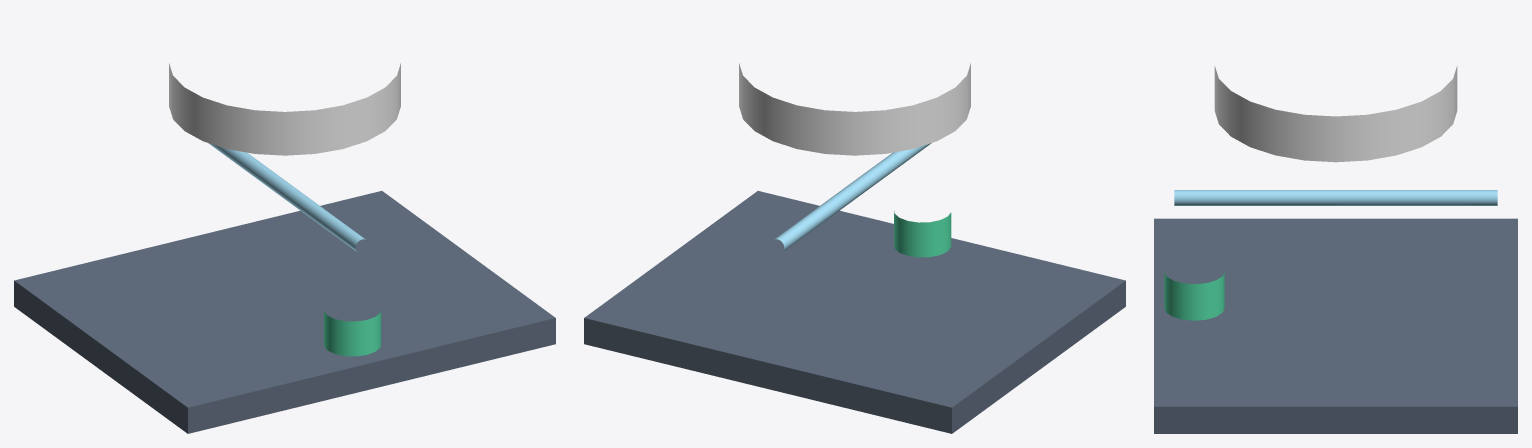
Rendered from illumination_engineering.glb.
3 views of the same model, side by side, from view 1: azimuth 30°, elevation 25°; view 2: azimuth 150°, elevation 25°; view 3: azimuth 270°, elevation 25° (orthographic). The views are drawn at different scales.
Parts seen in each view (by area): view 1: GoniophotometerBase, LEDHighBayLuminaire, GoniometerRotatingArm, LuxPhotocellSensor; view 2: GoniophotometerBase, LEDHighBayLuminaire, GoniometerRotatingArm, LuxPhotocellSensor; view 3: GoniophotometerBase, LEDHighBayLuminaire, GoniometerRotatingArm, LuxPhotocellSensor.
Boxes of the visible parts, box(x1,y1,x2,y2) form: GoniophotometerBase: box(14, 191, 555, 433); LEDHighBayLuminaire: box(169, 63, 400, 155); GoniometerRotatingArm: box(208, 143, 365, 251); LuxPhotocellSensor: box(324, 309, 381, 356); GoniophotometerBase: box(584, 191, 1125, 433); LEDHighBayLuminaire: box(739, 63, 970, 155); GoniometerRotatingArm: box(774, 143, 931, 251); LuxPhotocellSensor: box(894, 211, 951, 257); GoniophotometerBase: box(1154, 218, 1517, 433); LEDHighBayLuminaire: box(1214, 66, 1457, 162); GoniometerRotatingArm: box(1174, 190, 1497, 205); LuxPhotocellSensor: box(1164, 272, 1224, 320).
Size of the model in its own units: 2.2 by 1.5 by 1.8.
